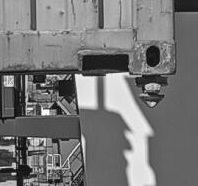twist_lock_2: (129, 67, 174, 111)
